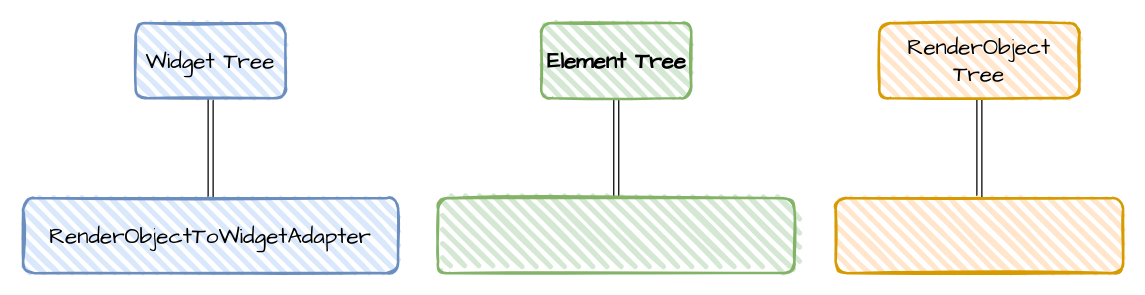
The diagram is 1145 pixels wide and 295 high, and some of its shapes have lost their labels. The shapes that lost their labels are listed below. From the top down, each one's centre as x and y in pixels, then its label:
pixel 615 235: RenderObjectToWidgetElement
pixel 979 235: _pipelineOwner.rootNode
